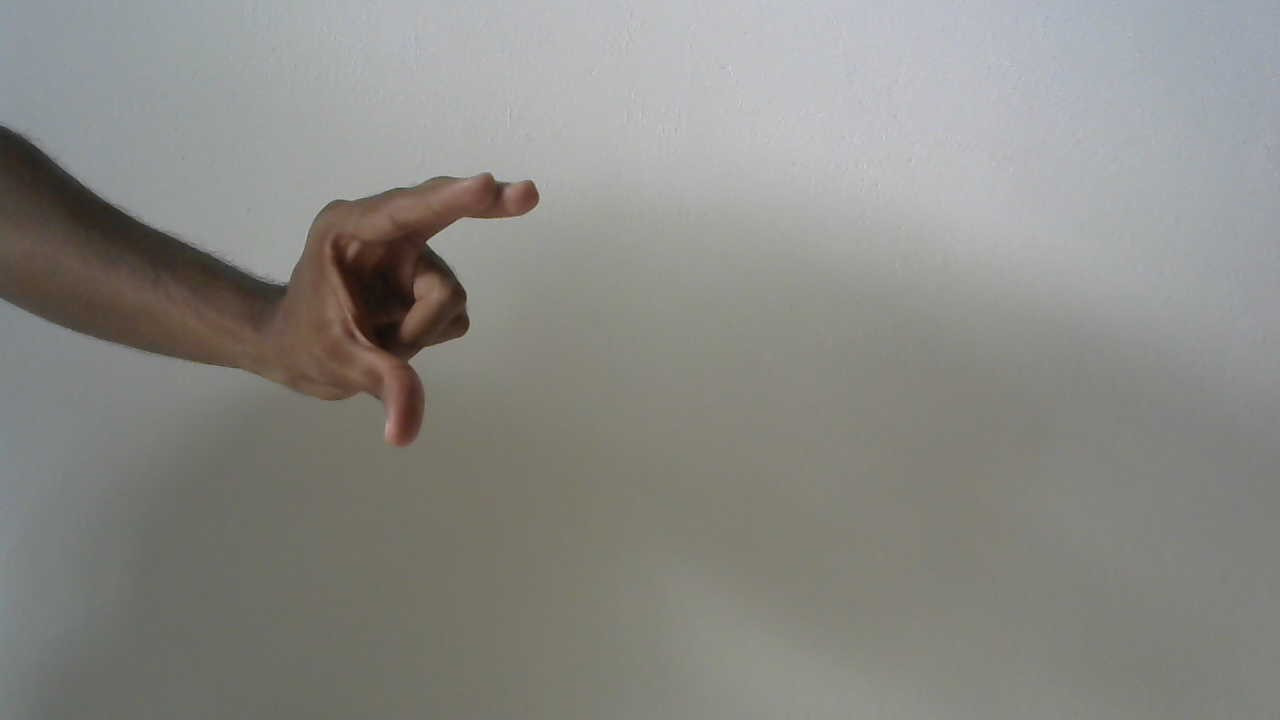no: (262, 168, 559, 454)
